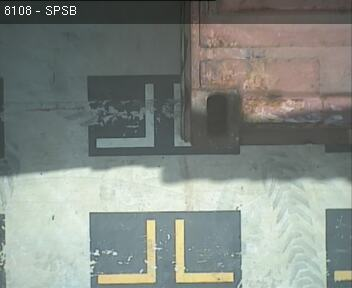groundmarker_1: (97, 219, 234, 283), (96, 83, 190, 145)
